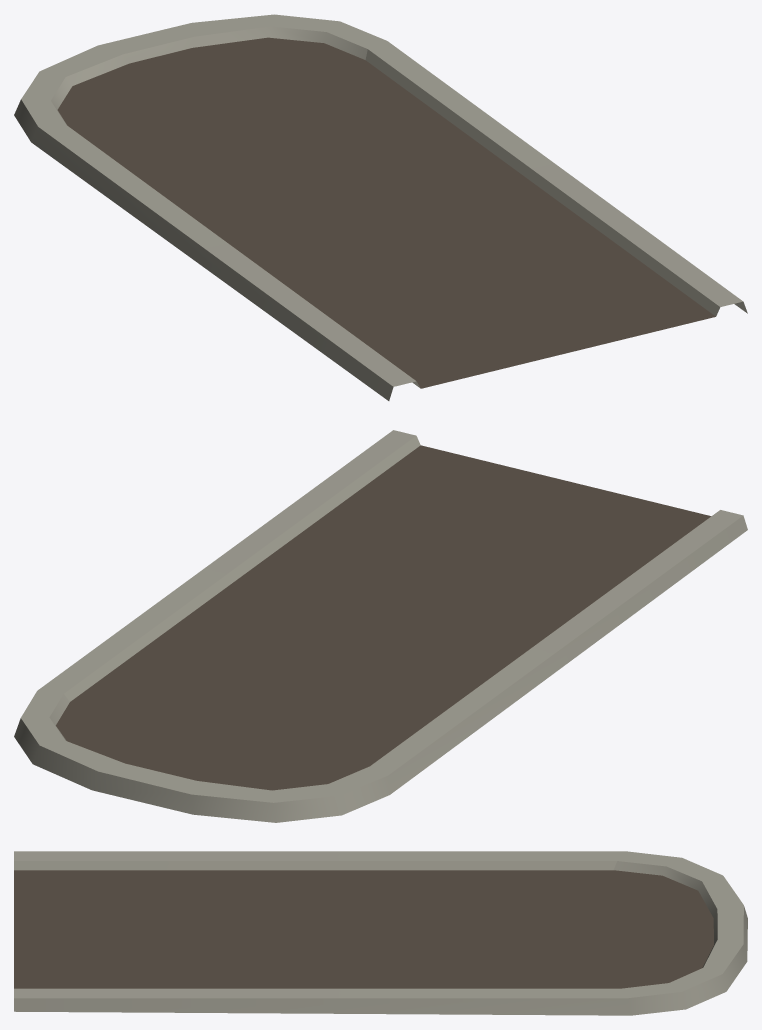
File: ParkRoad_6_B.fbx
3 renders of one model, top to bottom at view 1: azimuth 30°, elevation 25°; view 2: azimuth 150°, elevation 25°; view 3: azimuth 270°, elevation 25°, orthographic. The views are drawn at different scales.
Visible parts, largest first — view 1: ParkRoad_6_B; view 2: ParkRoad_6_B; view 3: ParkRoad_6_B.
Boxes of the visible parts, <box> form: ParkRoad_6_B: <box>14,14,747,400</box>; ParkRoad_6_B: <box>14,430,747,822</box>; ParkRoad_6_B: <box>14,851,747,1015</box>.
Bounding box in the file's own units: 200 × 9.78 × 411.
